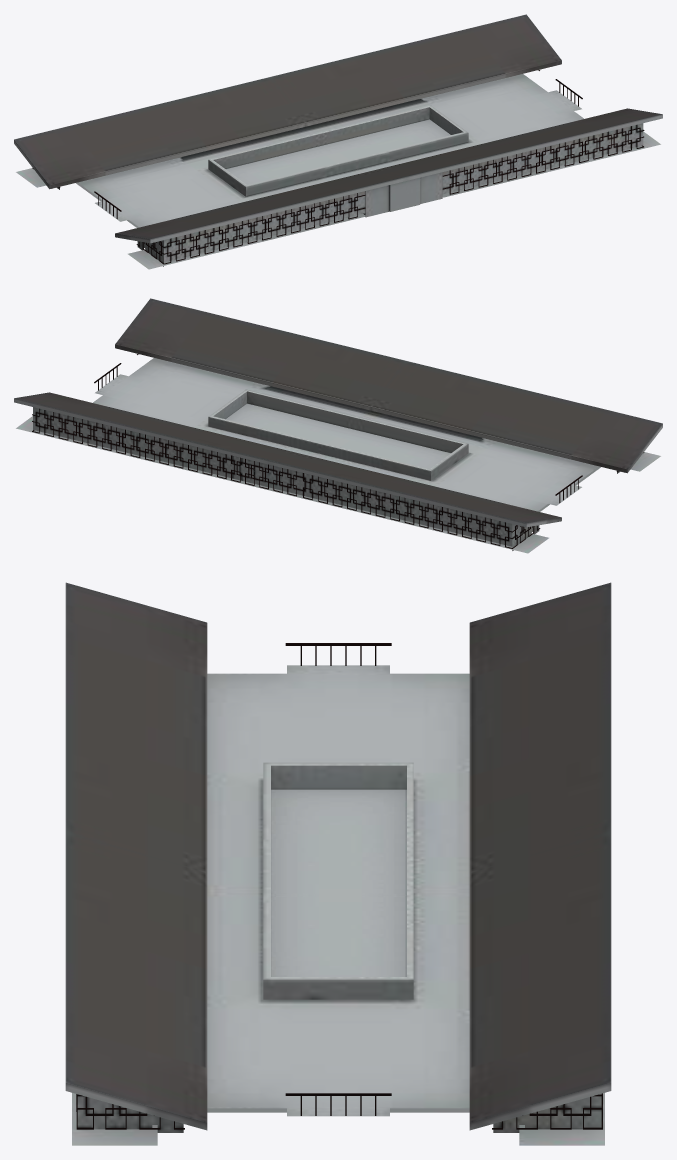
The picture shows the model from 3 angles, top to bottom: view 1: azimuth 30°, elevation 25°; view 2: azimuth 150°, elevation 25°; view 3: azimuth 270°, elevation 25°; orthographic projection. The views are drawn at different scales.
Visible parts, largest first — view 1: roof_top_0; view 2: roof_top_0; view 3: roof_top_0.
Part boxes in pixels (<box>): roof_top_0: <box>14,14,662,269</box>; roof_top_0: <box>14,298,662,553</box>; roof_top_0: <box>65,582,611,1145</box>.
Bounding box in the file's own units: 0.4302 × 0.0272 × 0.1984.
1 material, 1 textured.
